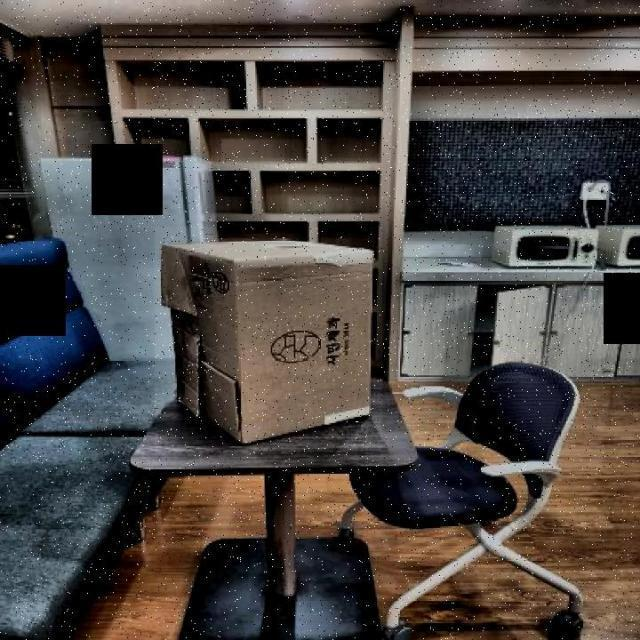box: (154, 226, 382, 452)
